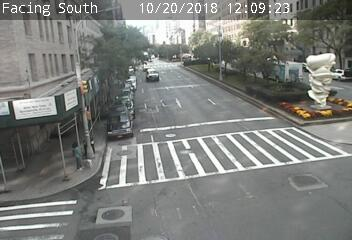carw: (145, 68, 159, 80)
